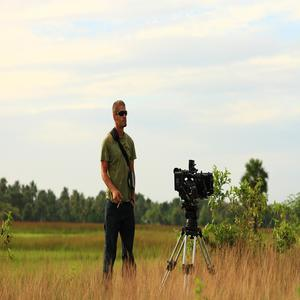cigarette: (116, 199, 124, 210)
